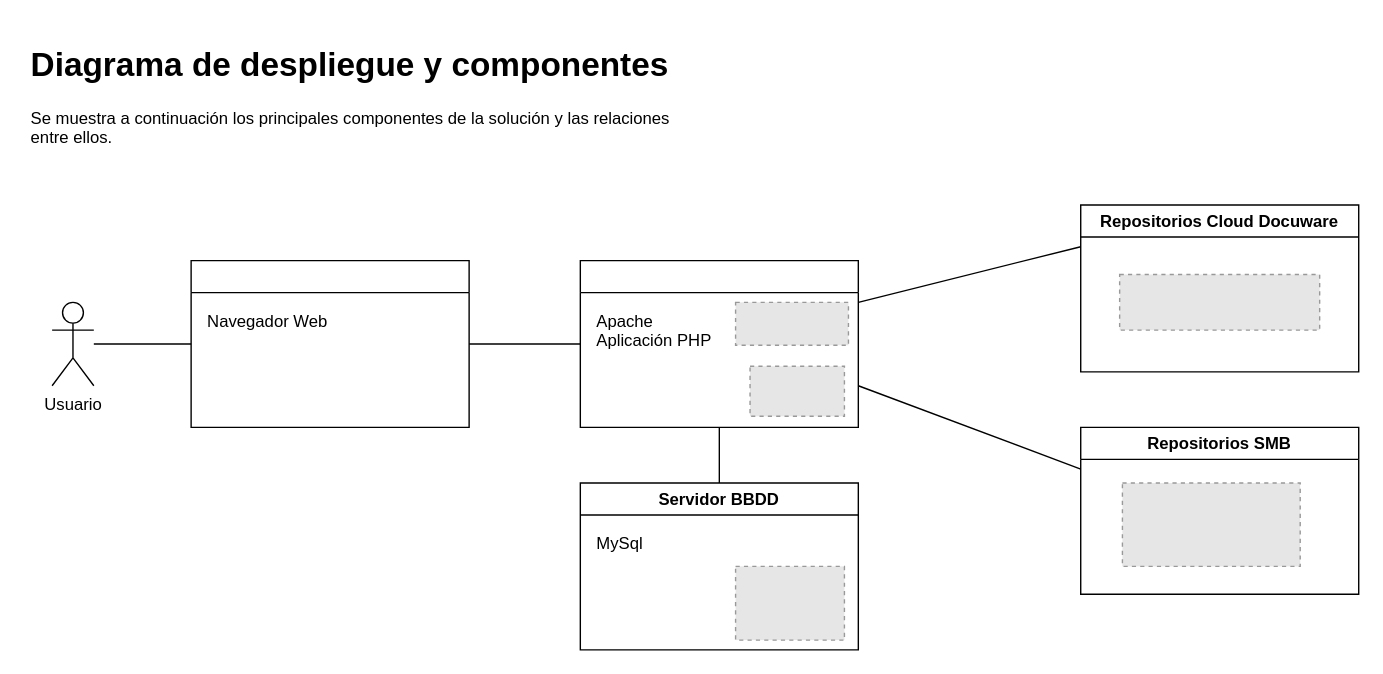
This 1383x674 diagram has some shape labels left out. Grey dashed boxes stand in for pictures. Each missing label, with the box of its shape:
Dispositivo: (190, 259, 469, 427)
Servidor Web: (579, 259, 858, 427)
